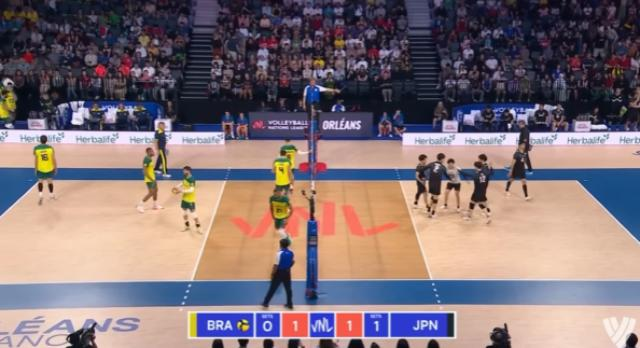Levantador: (168, 162, 208, 234), (413, 151, 433, 213)
Libero: (444, 156, 468, 212)
bola: (168, 184, 178, 197)
